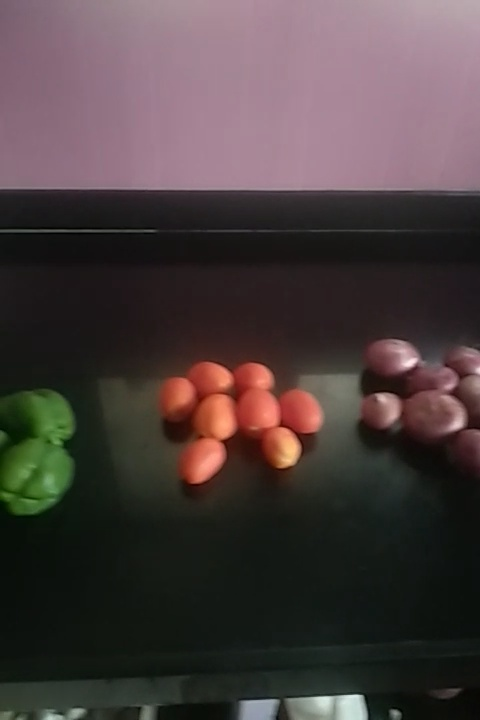capsicum: (1, 436, 91, 510), (1, 390, 81, 450)
onion: (405, 387, 464, 451), (359, 336, 420, 377), (362, 387, 403, 431), (429, 345, 480, 377), (448, 427, 480, 475), (455, 374, 480, 416)
tomato: (188, 396, 240, 448), (281, 387, 334, 438), (159, 370, 198, 423), (182, 443, 230, 486), (230, 359, 279, 398), (237, 391, 285, 430), (262, 427, 299, 475), (185, 362, 237, 396)
